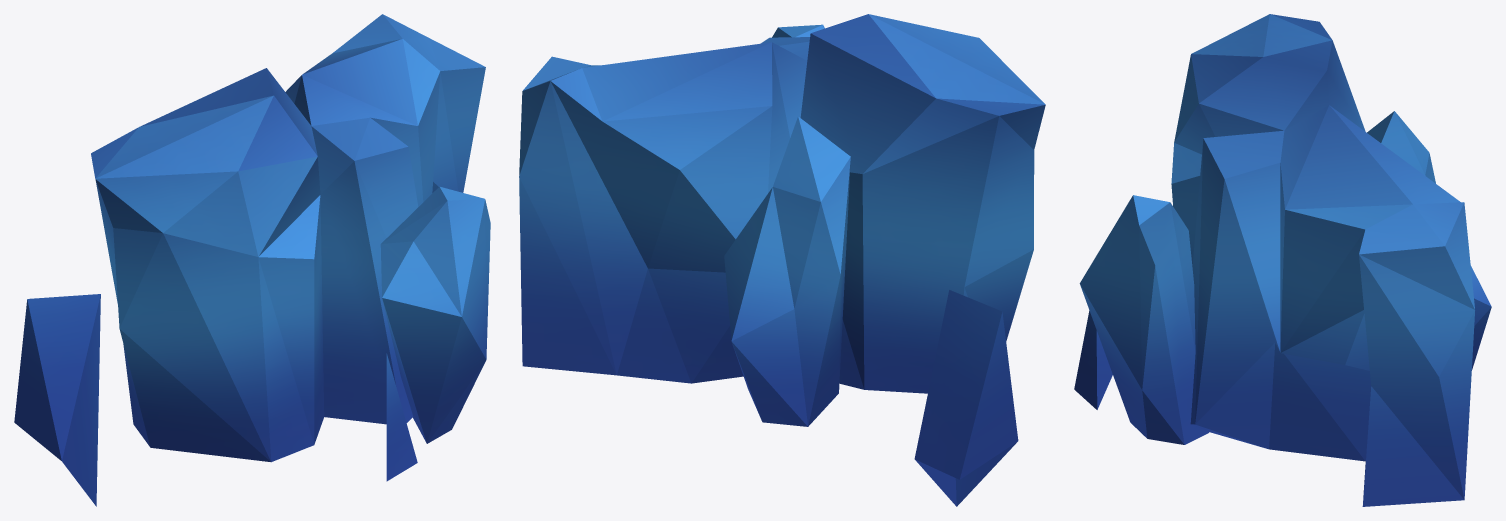
The model's file is Terrain_Mountain_2.fbx.
3 renders of one model, left to right at view 1: azimuth 30°, elevation 25°; view 2: azimuth 150°, elevation 25°; view 3: azimuth 270°, elevation 25°, orthographic. The views are drawn at different scales.
Visible parts, largest first — view 1: terrain_mountain_002; view 2: terrain_mountain_002; view 3: terrain_mountain_002.
Boxes of the visible parts, x1,y1,x2,y2 form: terrain_mountain_002: (14,14,490,506); terrain_mountain_002: (519,14,1045,506); terrain_mountain_002: (1074,14,1491,506).
Bounding box in the file's own units: 249 × 219 × 200.
1 material, 1 textured.
